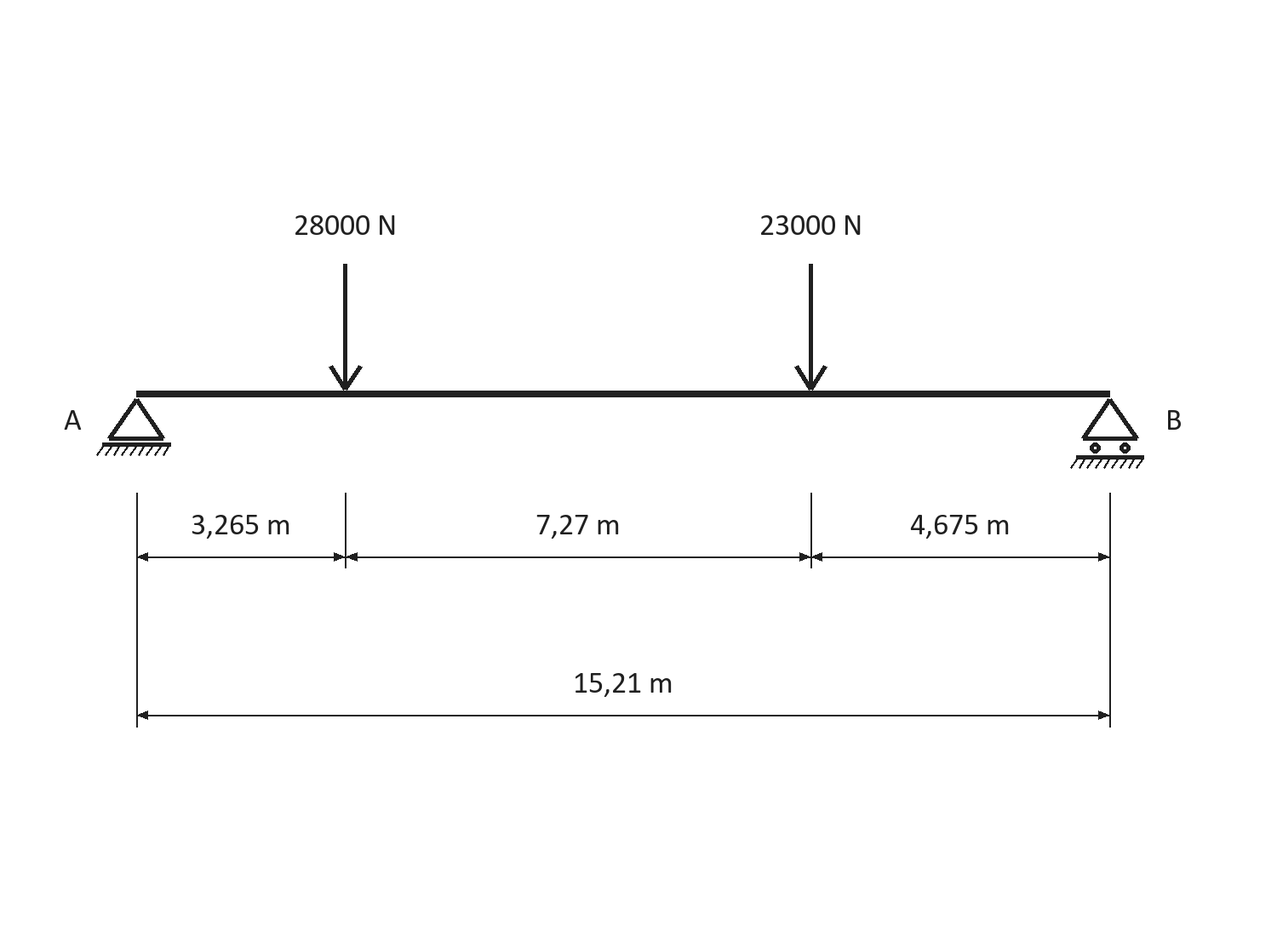pin_support: (96, 398, 171, 456)
point_load: (329, 264, 363, 391), (794, 264, 827, 391)
roller_support: (1070, 398, 1144, 469)
